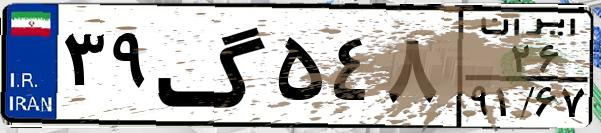1: (495, 70, 520, 125)
2: (508, 27, 537, 80)
3: (57, 26, 110, 100)
4: (330, 28, 385, 110)
5: (270, 28, 330, 110)
6: (537, 27, 568, 80), (535, 70, 560, 125)
7: (560, 70, 590, 125)
8: (385, 28, 445, 110)
9: (110, 28, 156, 98), (470, 70, 495, 125)
گ: (156, 12, 270, 120)
